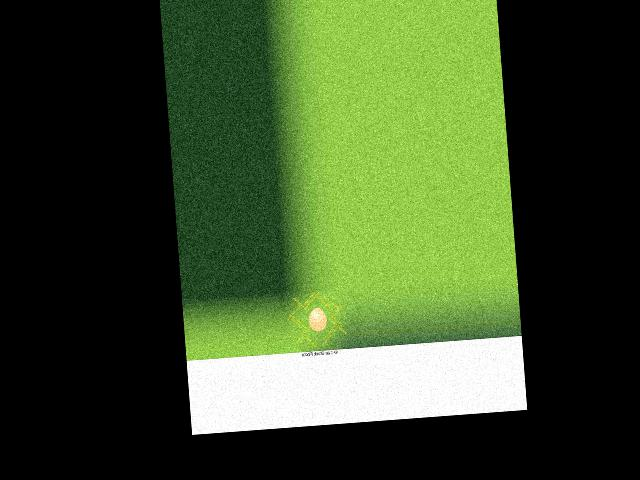egg: (307, 306, 327, 331)
